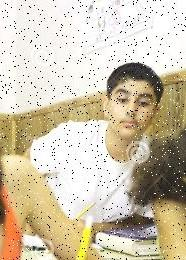cheating: (26, 54, 171, 206)
